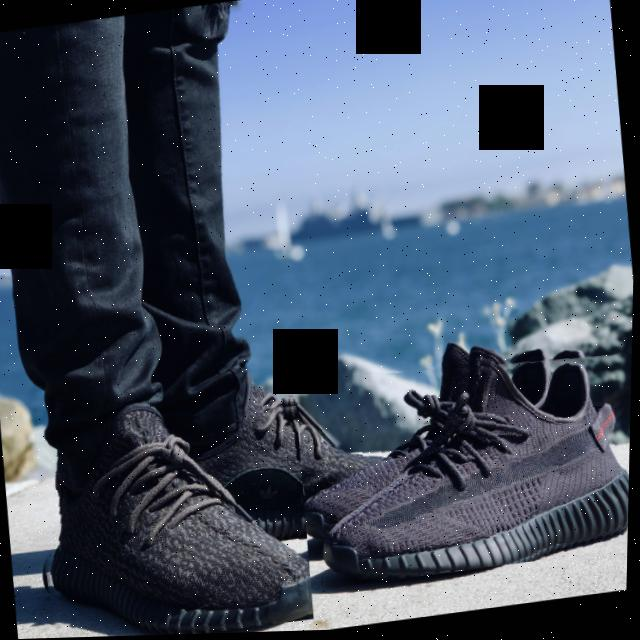shoe: (306, 340, 634, 591), (24, 398, 320, 639)
